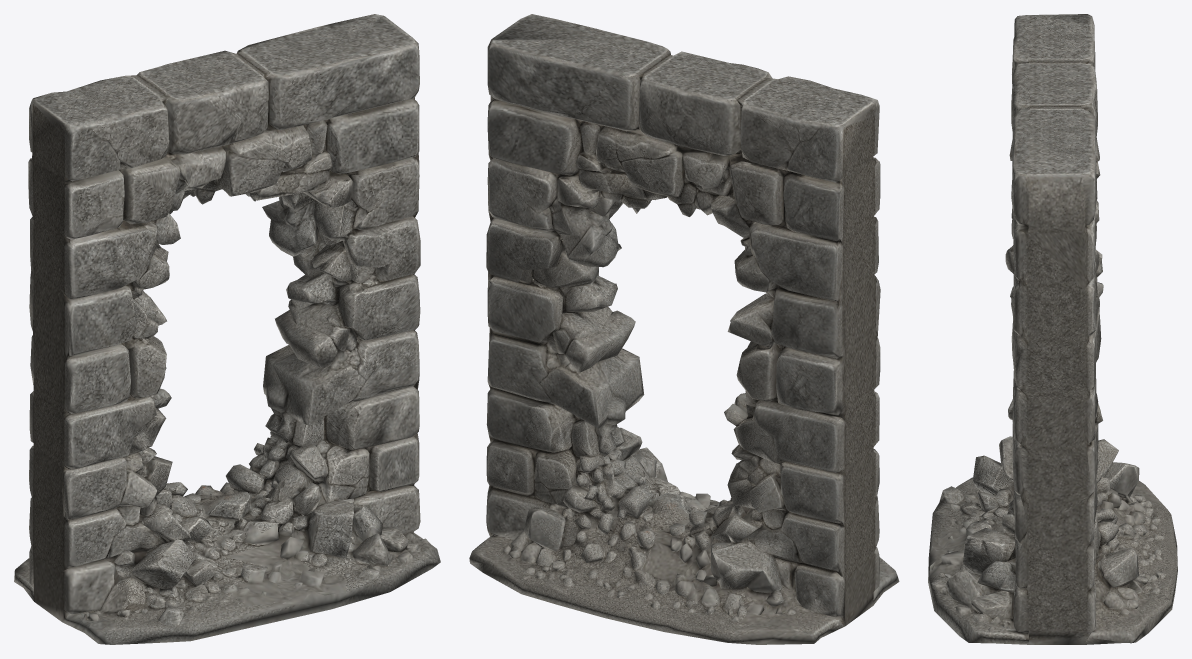
File: Broken_Fort_wall.glb
3 views of the same model, side by side, from view 1: azimuth 30°, elevation 25°; view 2: azimuth 150°, elevation 25°; view 3: azimuth 270°, elevation 25° (orthographic). The views are drawn at different scales.
Parts seen in each view (by area): view 1: Mesh_0; view 2: Mesh_0; view 3: Mesh_0.
Boxes of the visible parts, x1,y1,x2,y2 form: Mesh_0: (14, 14, 440, 644); Mesh_0: (469, 14, 899, 644); Mesh_0: (928, 14, 1177, 644).
Size of the model in its own units: 1.4 by 1.9 by 0.915.
Materials: 1 (1 with a texture image).
